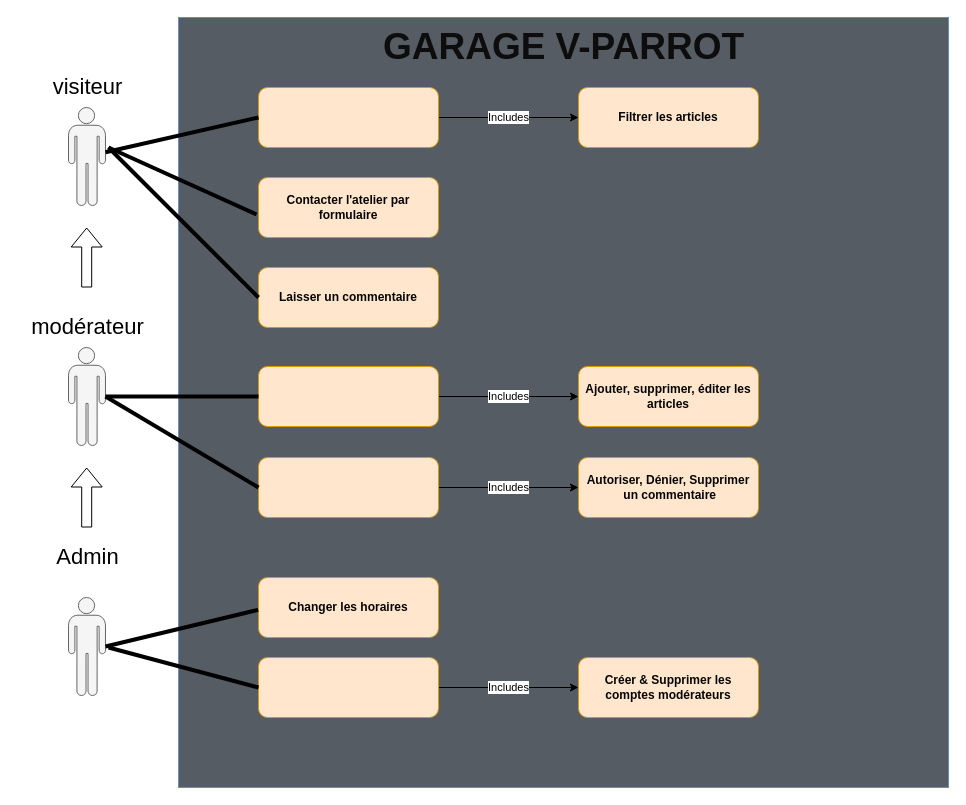
The diagram is 966 pixels wide and 805 high, and some of its shapes have lost their labels. Here are the shapes that lost their labels. From the top down, the centre of each, then its label:
At point 348,117: "Consulter les articles".
At point 348,396: "Gérer les articles".
At point 348,487: "Gérer les commentaires".
At point 348,687: "Gérer les comptes modérateurs".
